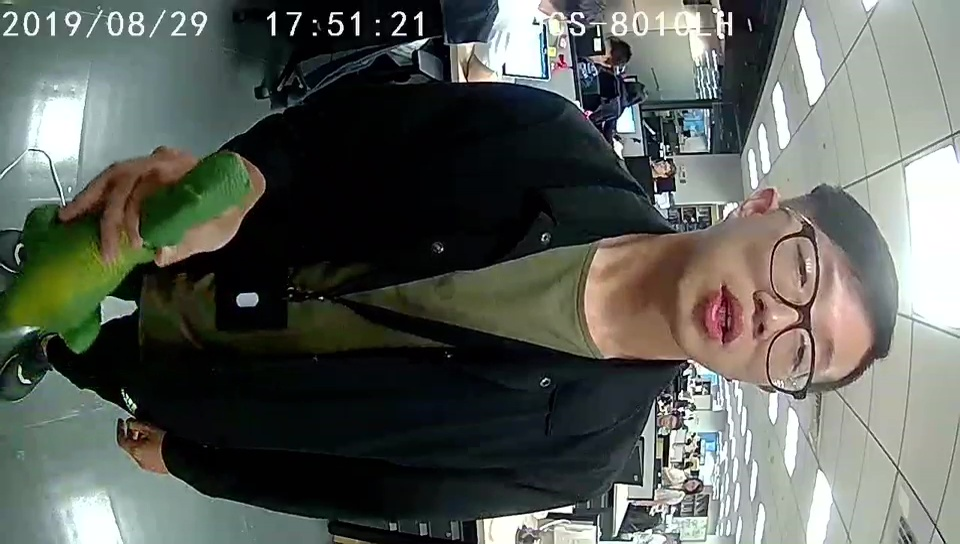rex: (1, 149, 254, 354)
